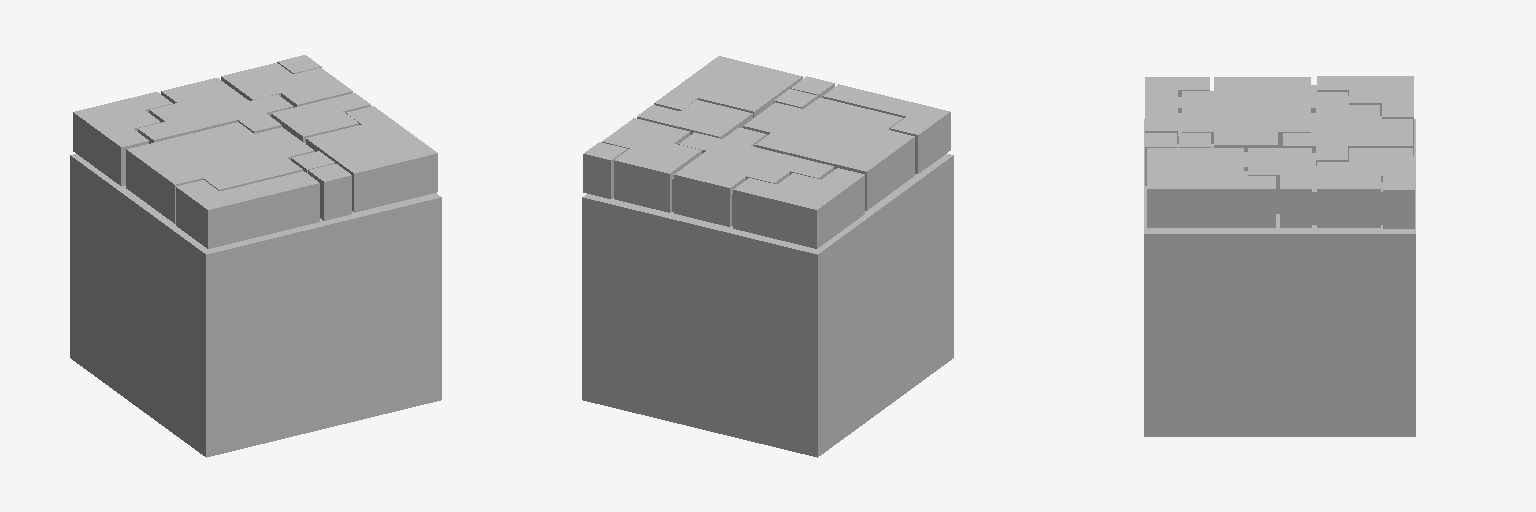
Rendered from core_top.obj.
The picture shows the model from 3 angles: view 1: azimuth 30°, elevation 25°; view 2: azimuth 150°, elevation 25°; view 3: azimuth 270°, elevation 25°; orthographic projection.
Visible parts, largest first — view 1: core_top; view 2: core_top; view 3: core_top.
Boxes of the visible parts, x1,y1,x2,y2 form: core_top: [70, 55, 441, 457]; core_top: [582, 56, 953, 457]; core_top: [1144, 76, 1415, 436].
Bounding box in the file's own units: 1 × 1 × 1.